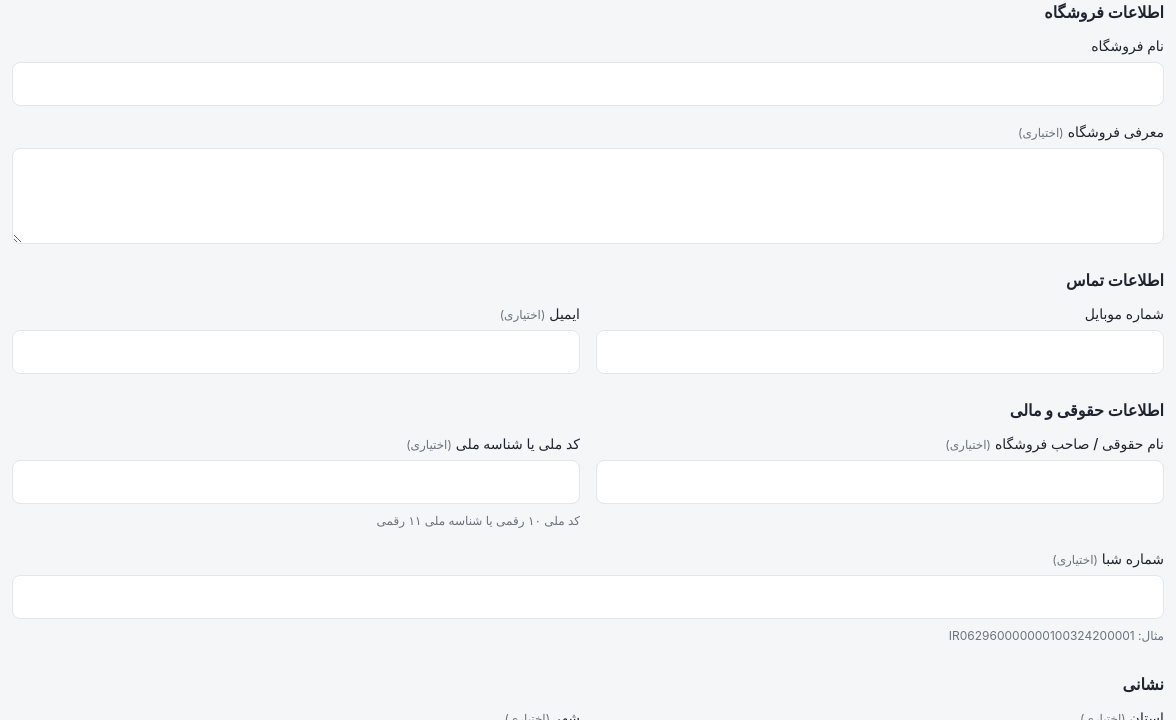
Test: SellerApplicationForm › shows marketplace error codes in Persian
The width and height of the screenshot is (1176, 720).
Type "فروشگاه تکراری" into the field labelled "نام فروشگاه" at (588, 84), box [12,62,1164,106]
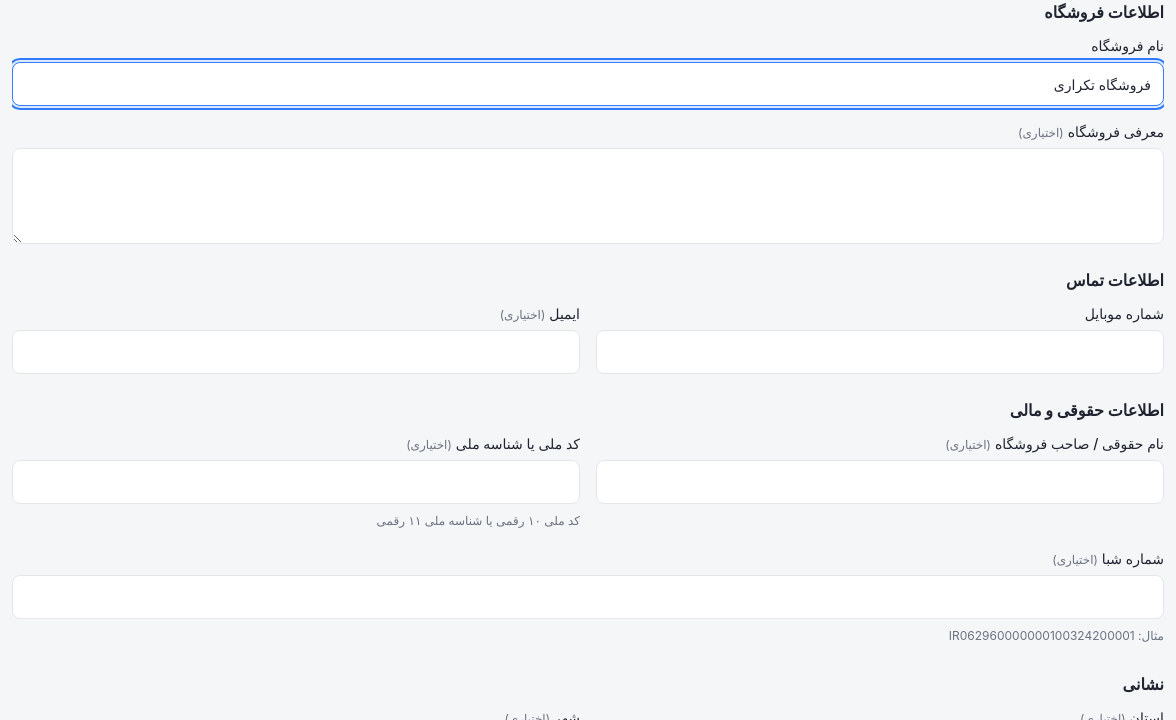
Type "09121234567" into the field labelled "شماره موبایل" at (880, 352), box [596,330,1164,374]
(page scrolled)
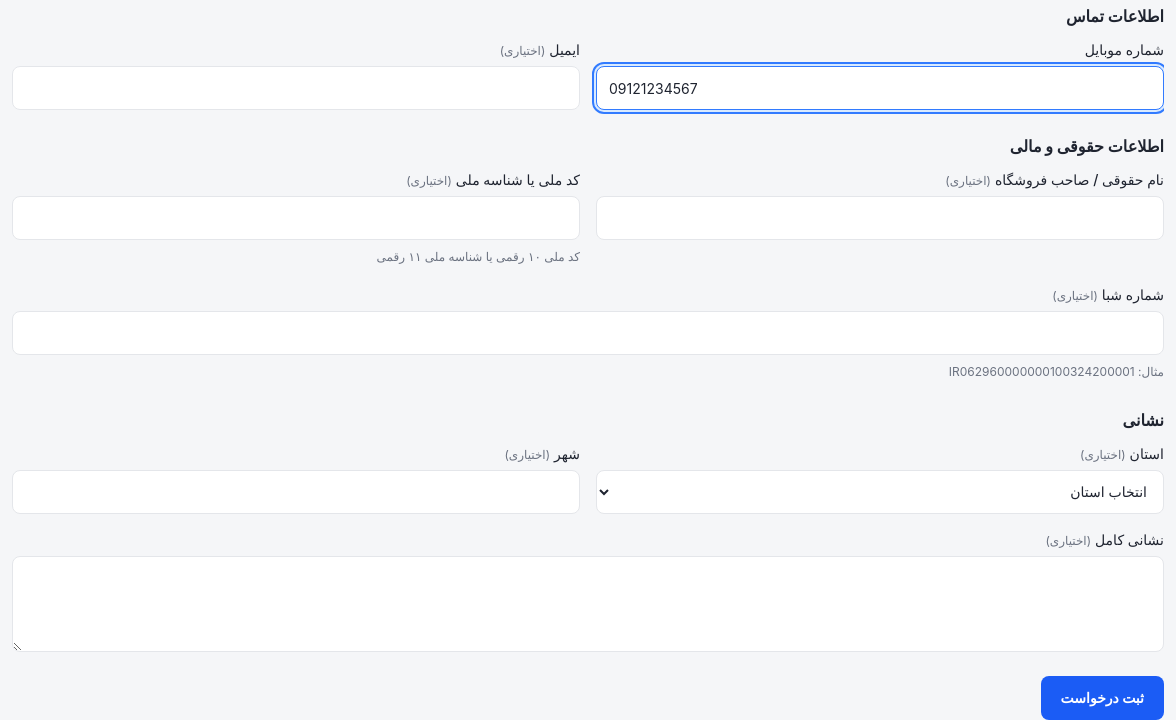
Click the button "ثبت درخواست" at (1102, 698), box [1041,676,1164,719]
(page scrolled)
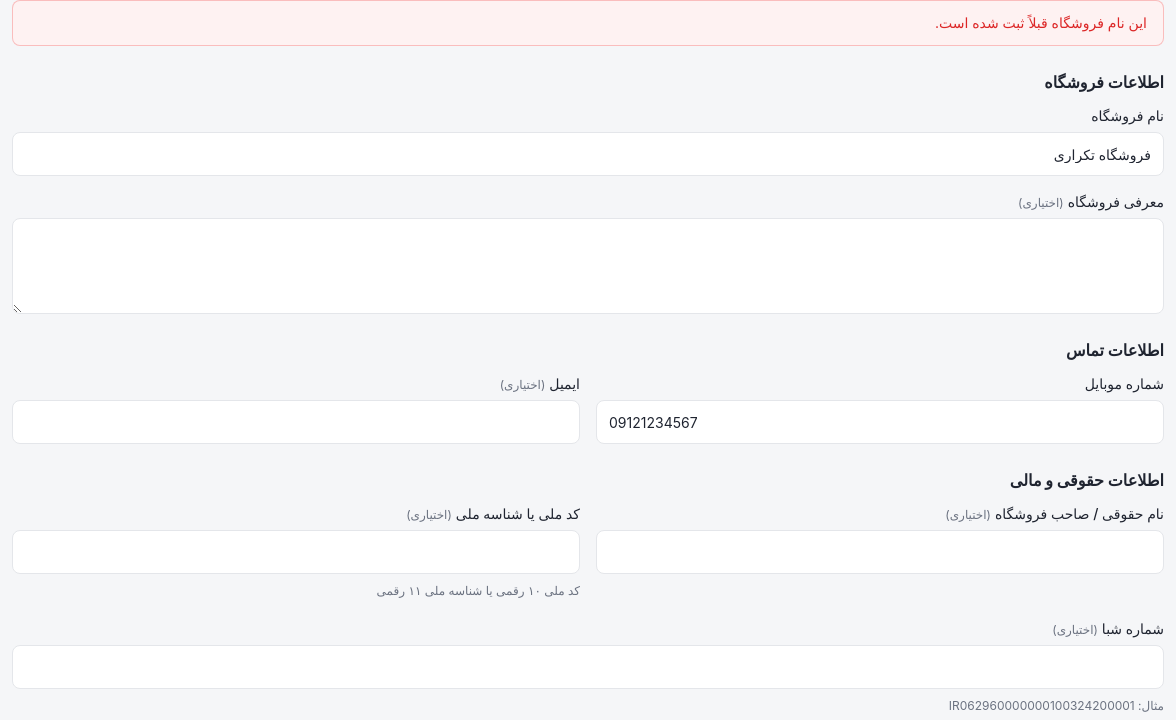
Now the text "این نام فروشگاه قبلاً ثبت شده است." is shown, box [12,0,1164,46]
